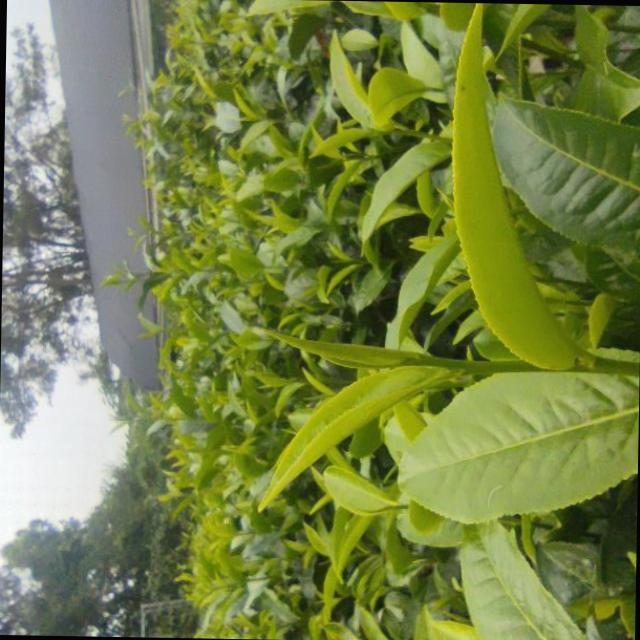Stem: (454, 360, 475, 375), (400, 129, 410, 136), (389, 504, 399, 509), (359, 158, 363, 162)
